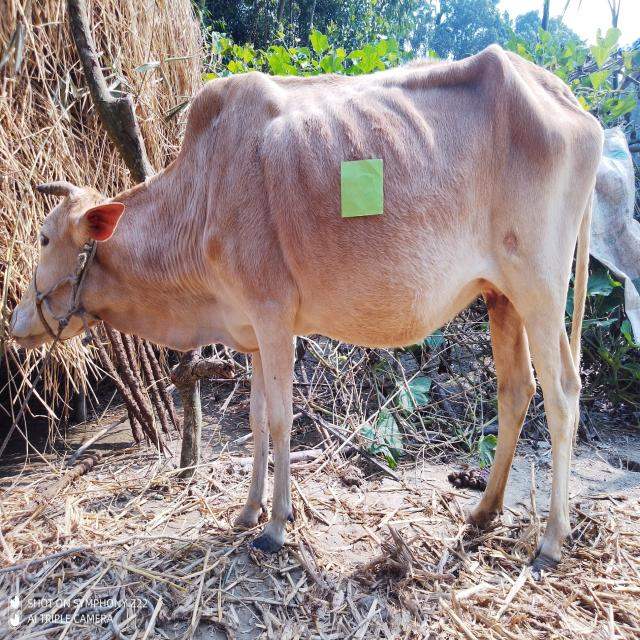badan_sapi: (252, 84, 570, 350)
sapi: (12, 45, 600, 572)
